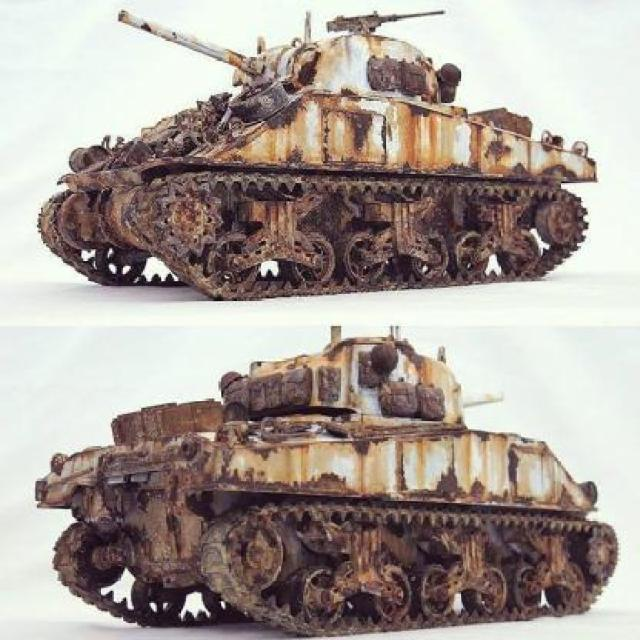corrosion: (37, 326, 614, 637), (38, 9, 600, 302)
